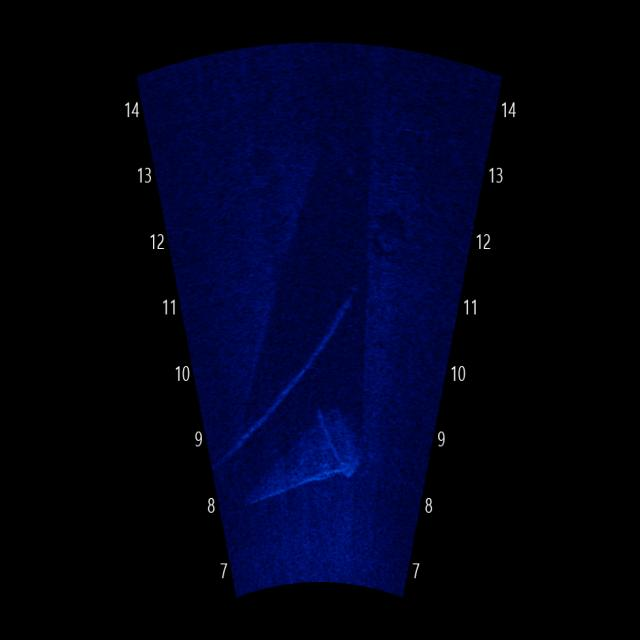circle: (365, 203, 423, 271), (232, 136, 292, 198)
triangle: (235, 384, 372, 518)
